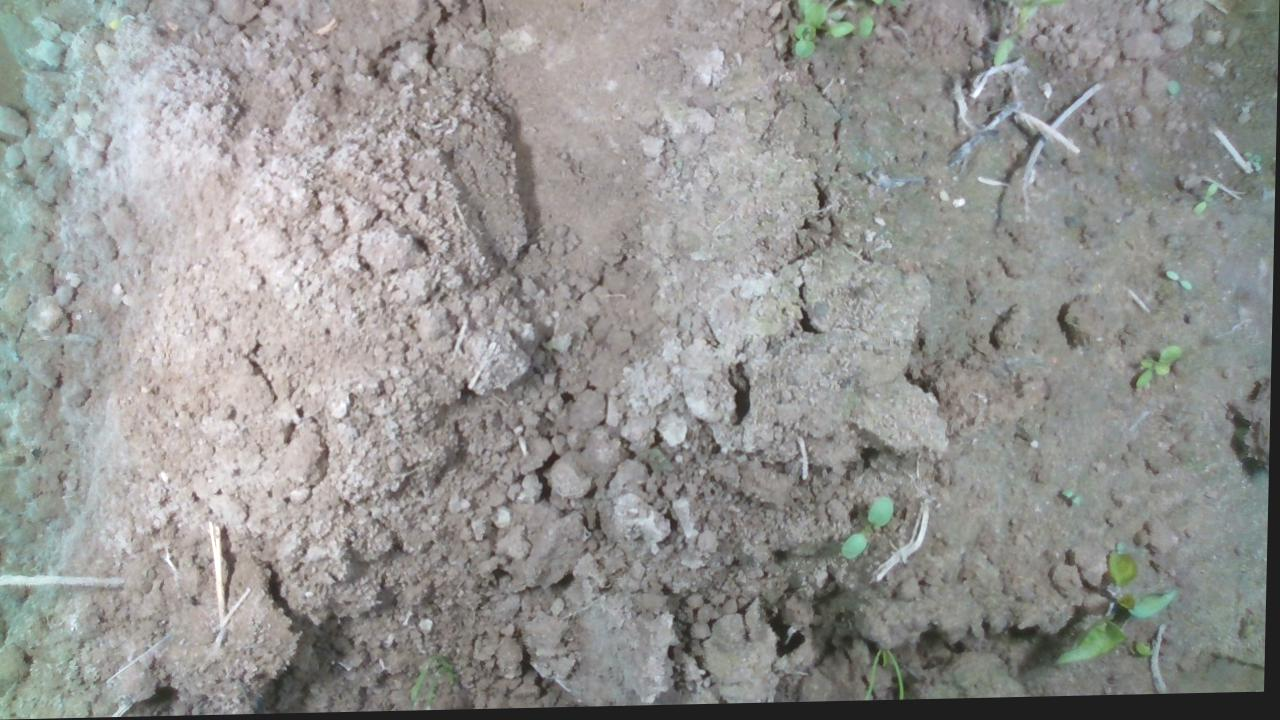weed: (842, 498, 895, 565), (1135, 347, 1184, 397), (1192, 186, 1218, 221), (1164, 272, 1193, 297)
